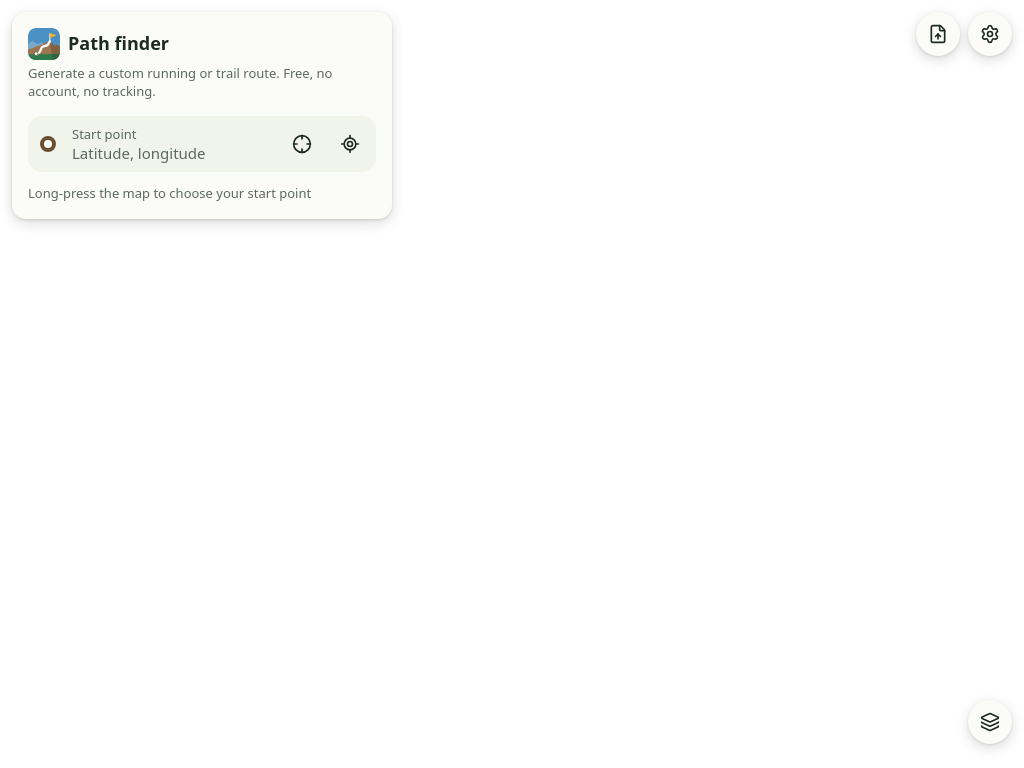
Scenario: CriteriaView › on desktops › shows the criteria only once there is a start point
The width and height of the screenshot is (1024, 768).
Expected: the text "Long-press the map to choose your start point" is shown, left=28, top=184, right=311, bottom=202
Step 1. Type "45.8, 6.2" into the field with test id "criteria-start" → (168, 154), box left=72, top=143, right=264, bottom=164
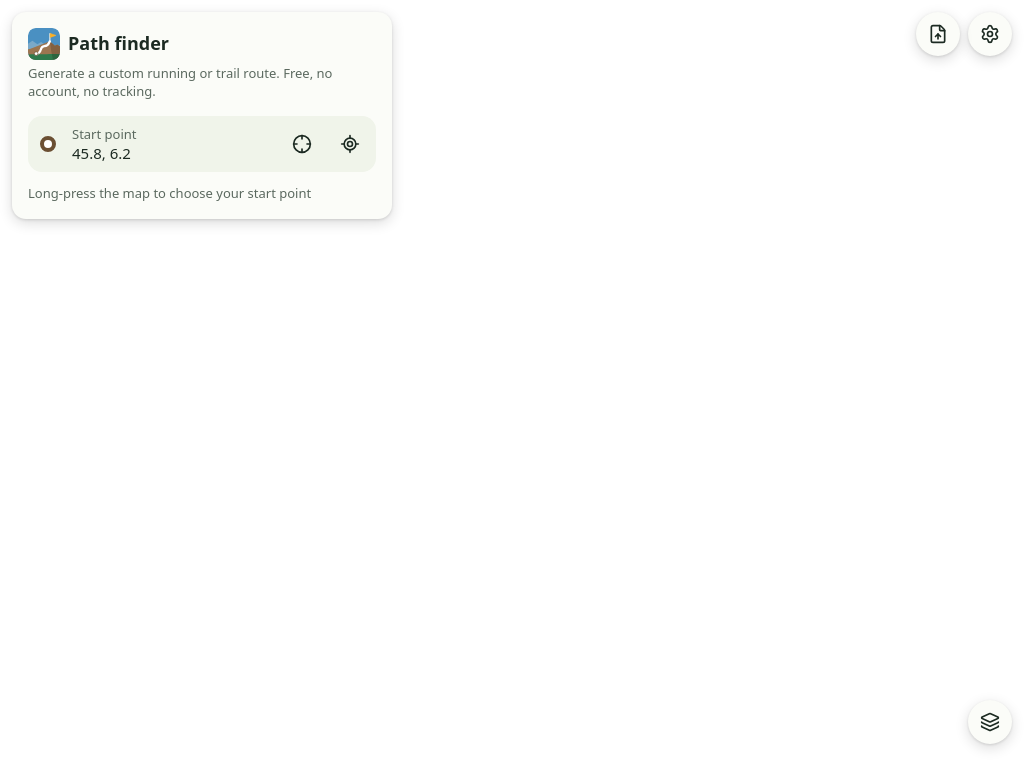
Step 2. Press Enter in the field with test id "criteria-start", box left=72, top=143, right=264, bottom=164
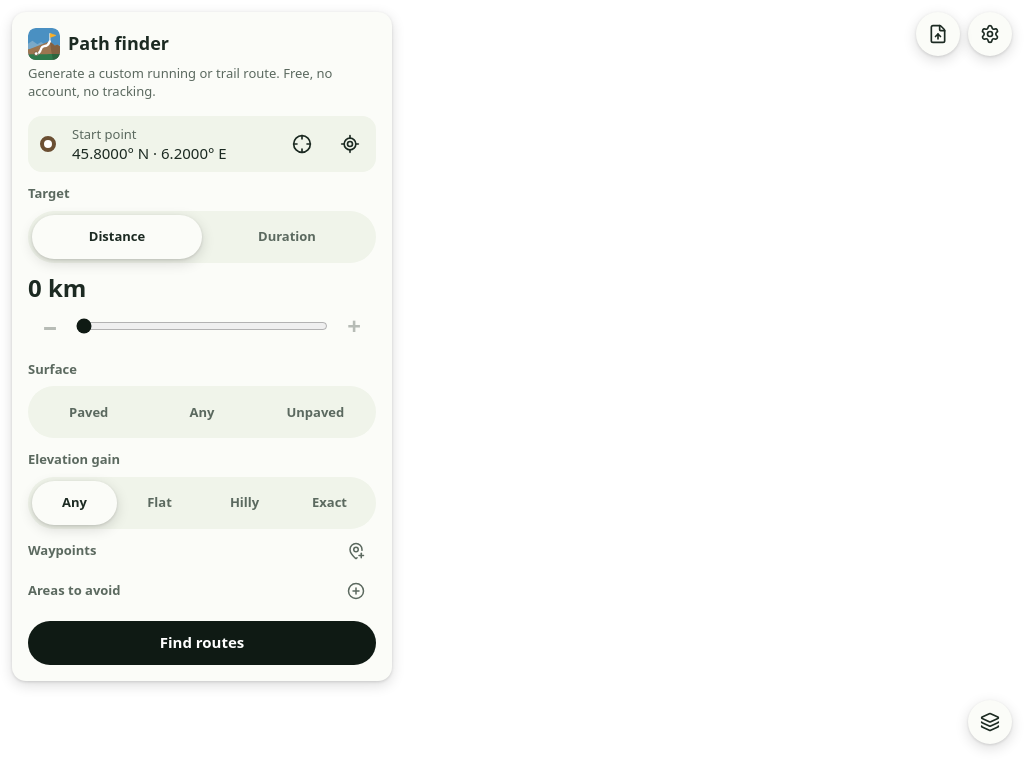
Expected: the radio button with test id "criteria-surface-unpaved" is shown, left=286, top=403, right=344, bottom=421
Expected: the slider with test id "criteria-distance" is shown, left=76, top=304, right=328, bottom=348
Expected: the text with test id "criteria-long-press" is gone
